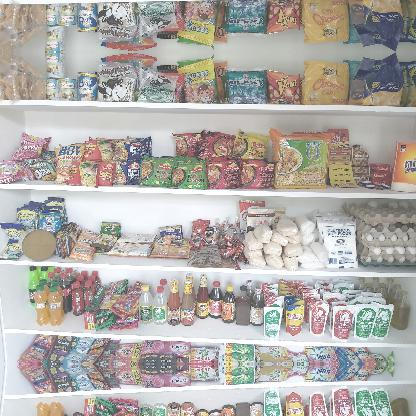Lady-s-Choice: (18, 228, 56, 260)
